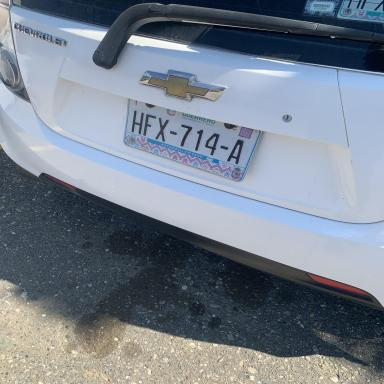License_Plate: (119, 94, 268, 186)
